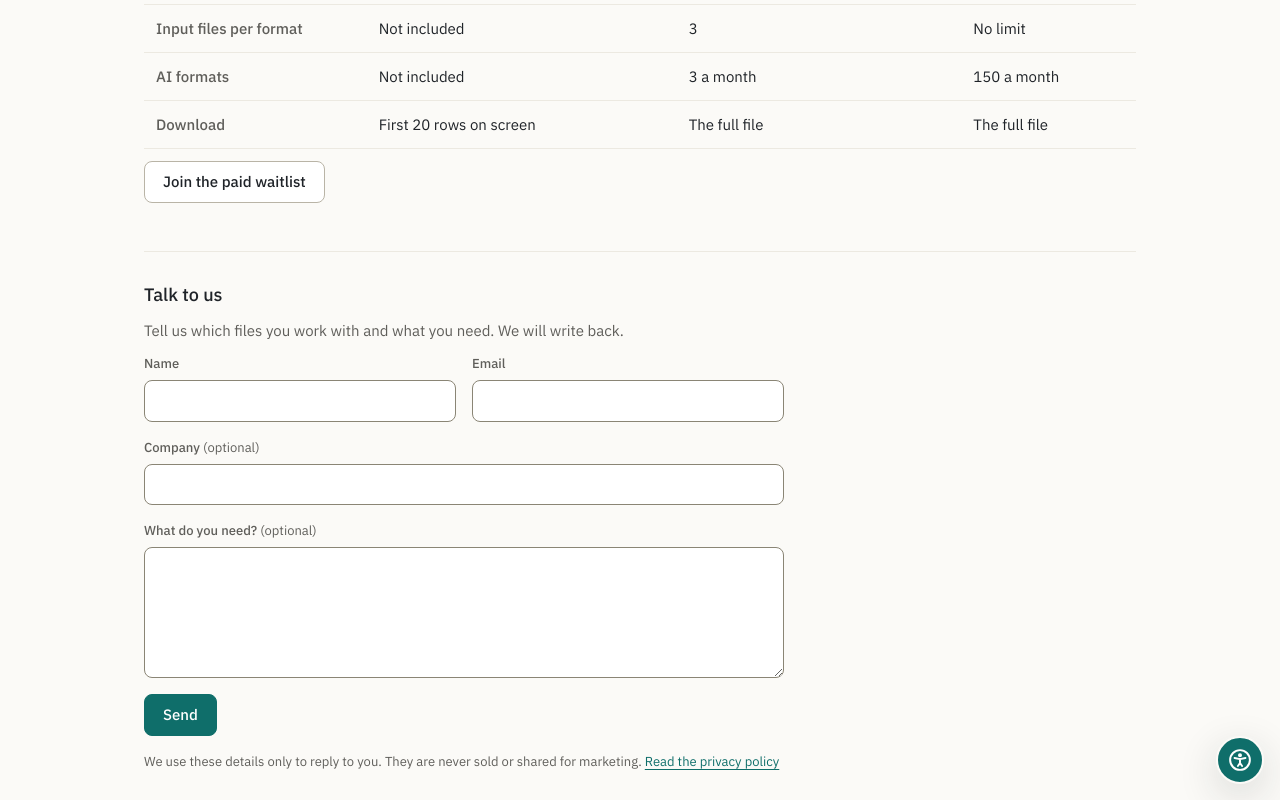
Test: the lead form on the business page › leaves out a blank company and message
(page scrolled)
Type "Dana" into the field labelled "Name" at (300, 401), box [144,380,456,422]
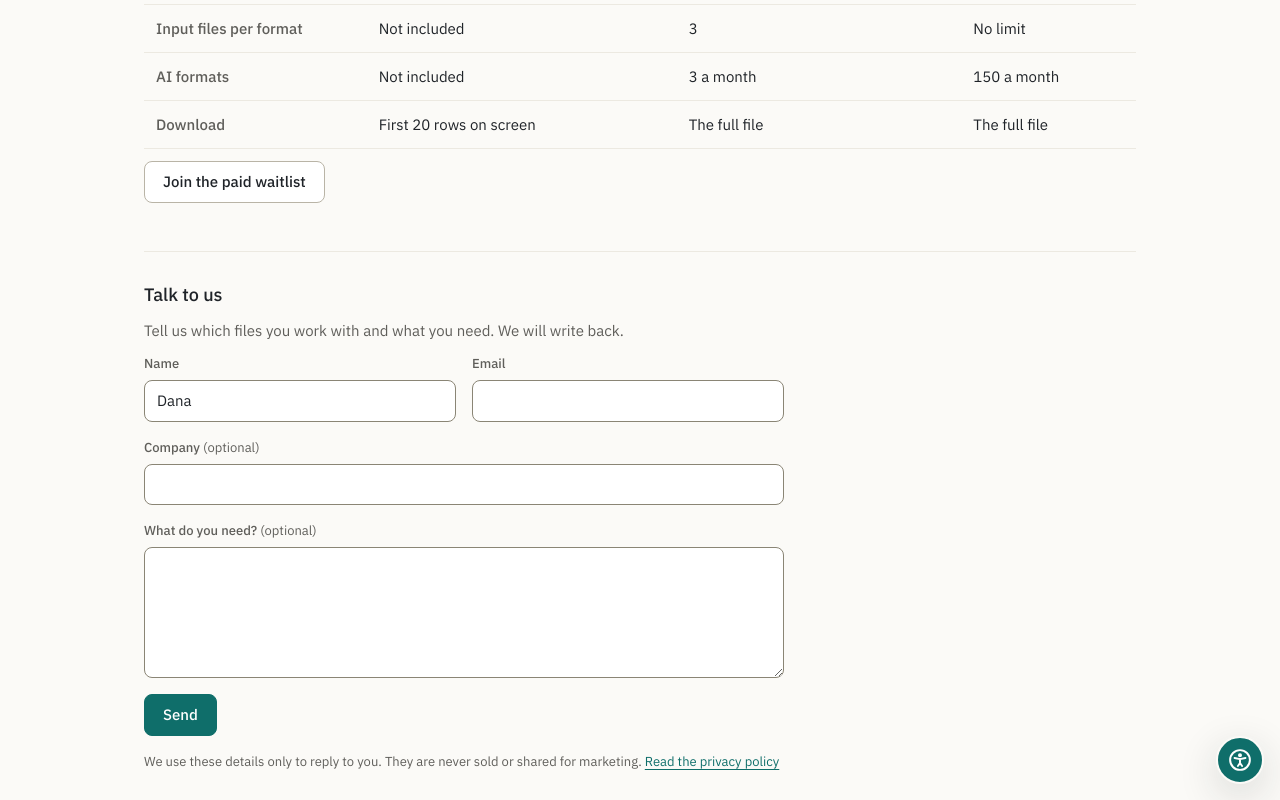
Type "dana@example.com" into the field labelled "Email" at (628, 401), box [472,380,784,422]
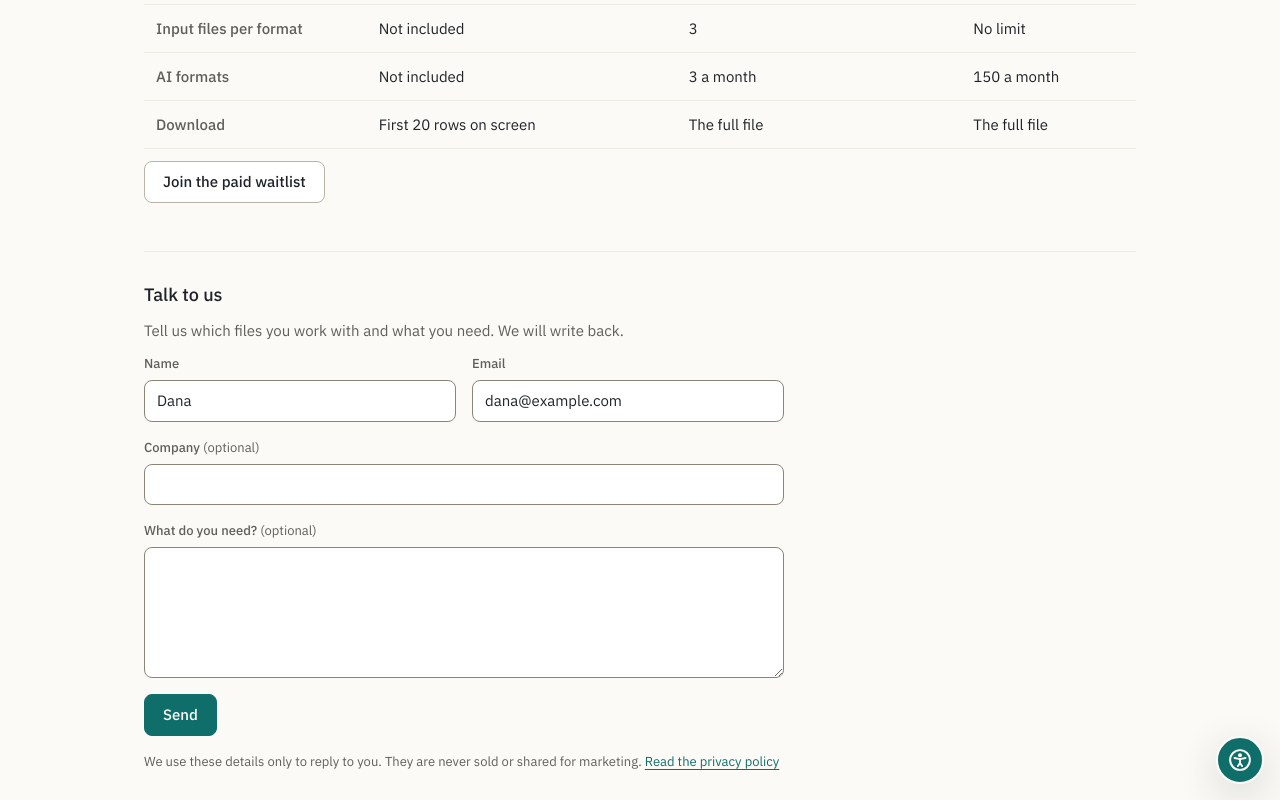
Click the button "Send" at (180, 715), box [144,694,217,736]
(page scrolled)
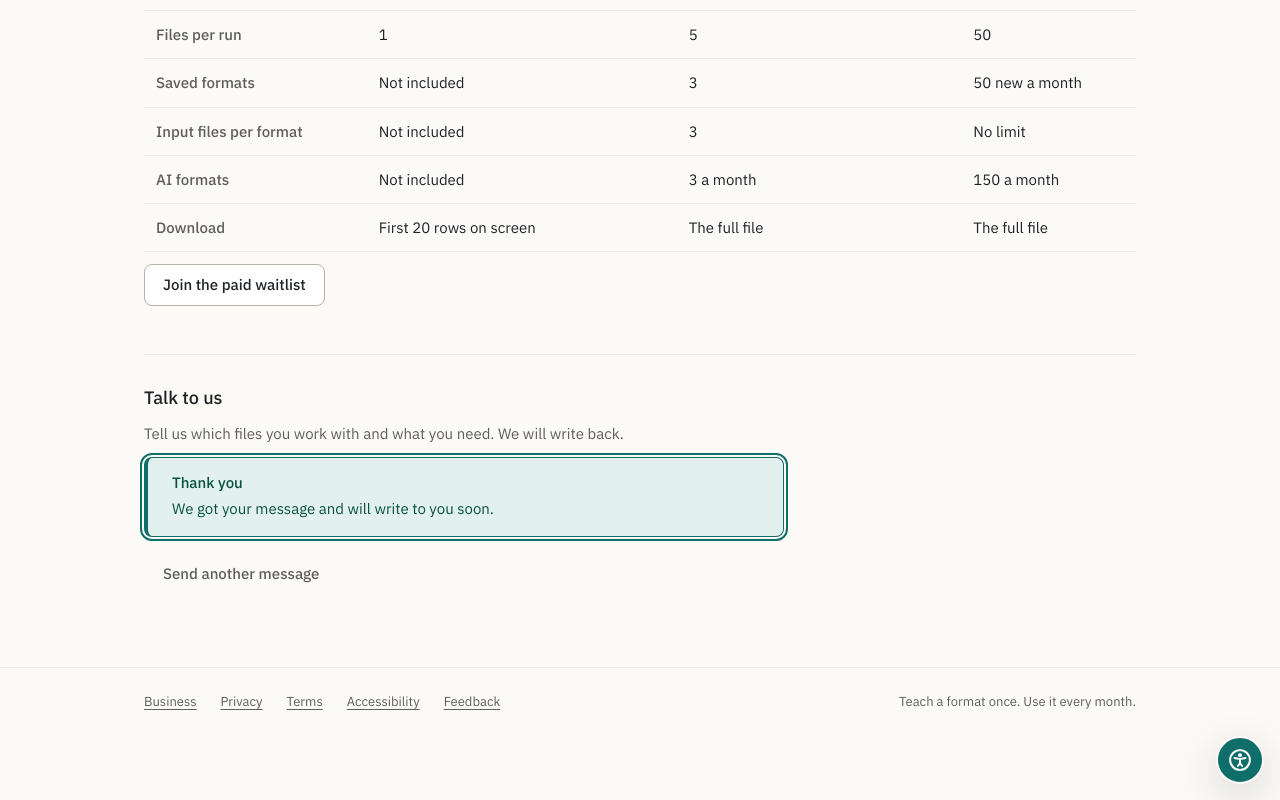
expect the text "We got your message and will write to you soon." is shown: met, box [172,499,494,518]
